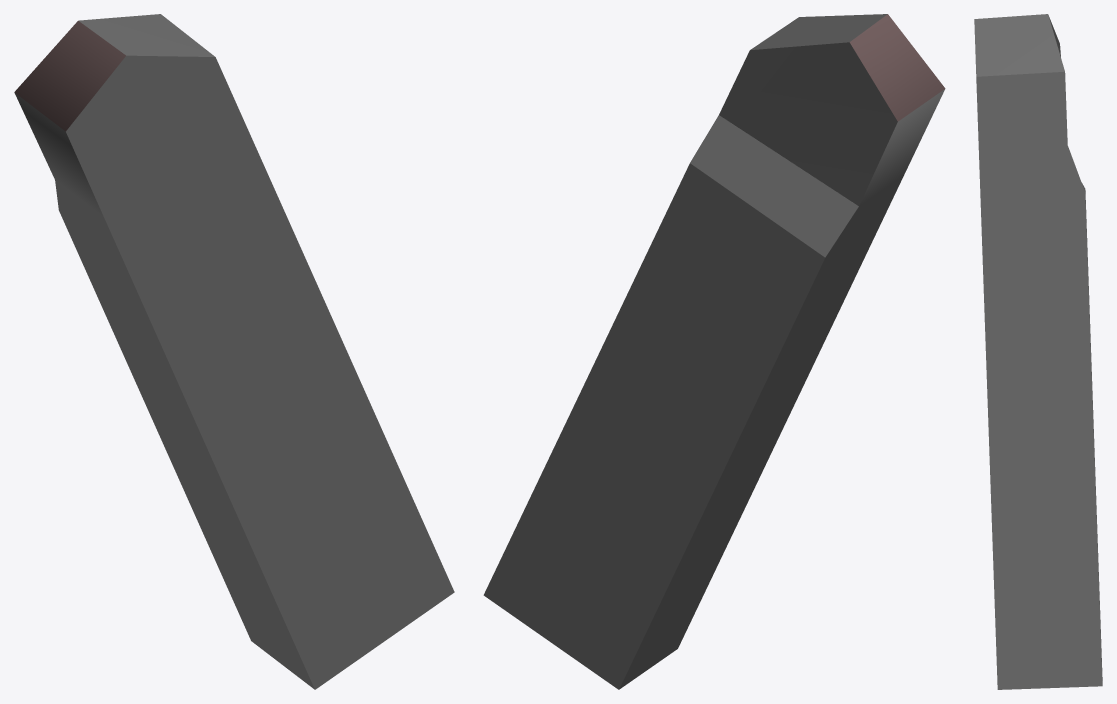
Rendered from renqinjiao05.FBX.
3 views of the same model, side by side, from view 1: azimuth 30°, elevation 25°; view 2: azimuth 150°, elevation 25°; view 3: azimuth 270°, elevation 25° (orthographic). The views are drawn at different scales.
Visible parts, largest first — view 1: 车刀构造; view 2: 车刀构造; view 3: 车刀构造.
Boxes of the visible parts, x1=… form: 车刀构造: x1=14, y1=14, x2=454, y2=689; 车刀构造: x1=483, y1=14, x2=945, y2=689; 车刀构造: x1=974, y1=14, x2=1102, y2=689.
Bounding box in the file's own units: 51.55 × 16.88 × 85.21.
